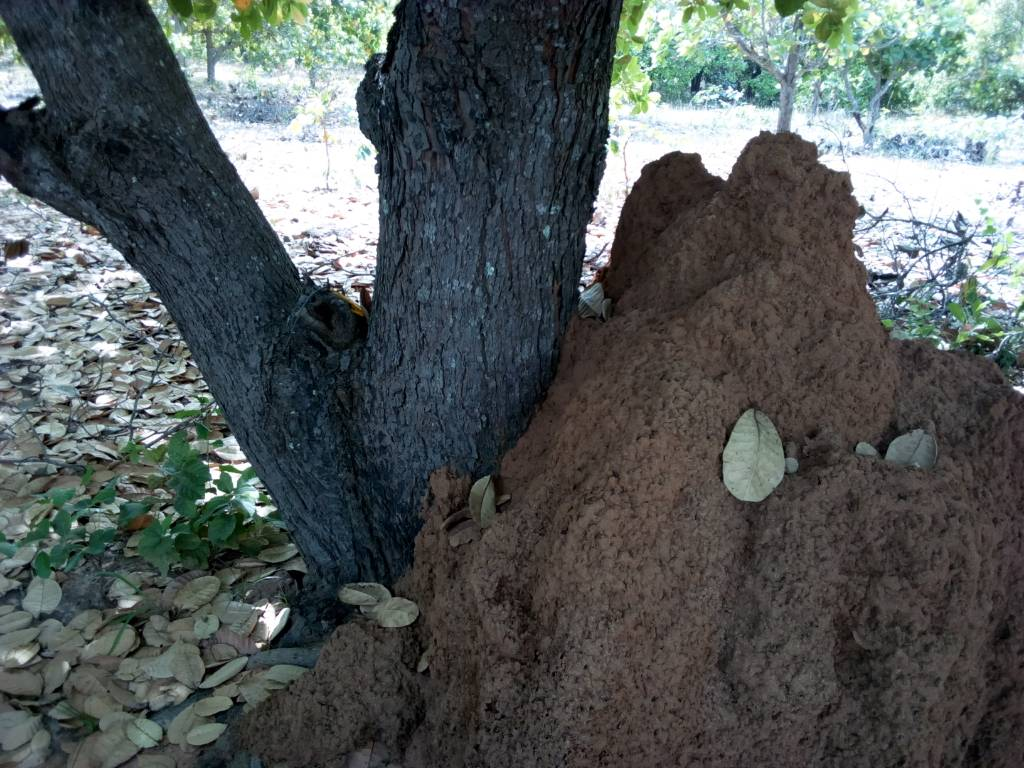Virose: (295, 128, 1017, 762)
